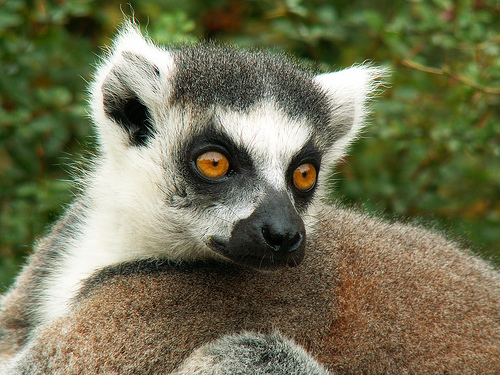cat: (0, 19, 499, 373)
